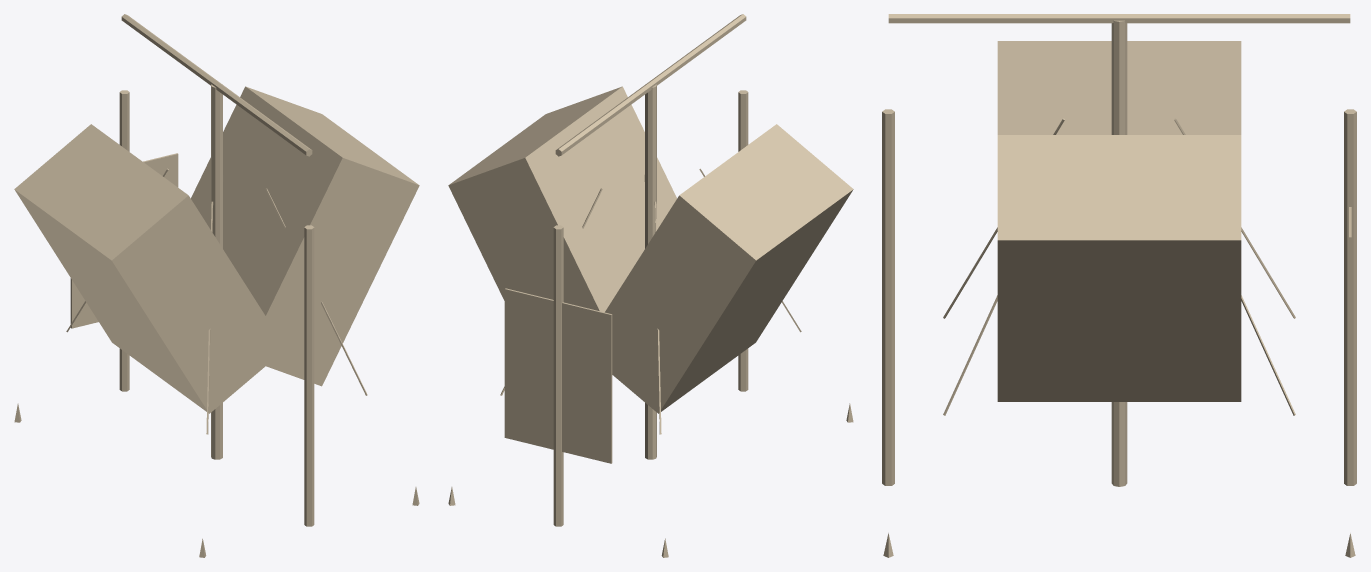
Rendered from tent.glb.
The picture shows the model from 3 angles, left to right: view 1: azimuth 30°, elevation 25°; view 2: azimuth 150°, elevation 25°; view 3: azimuth 270°, elevation 25°; orthographic projection. The views are drawn at different scales.
Visible parts, largest first — view 1: tent; view 2: tent; view 3: tent.
Part boxes in pixels (x1,y1,x2,y2): tent: (14,14,419,557); tent: (448,14,853,557); tent: (882,14,1356,557).
Size of the model in its own units: 1.73 by 2.05 by 1.85.
